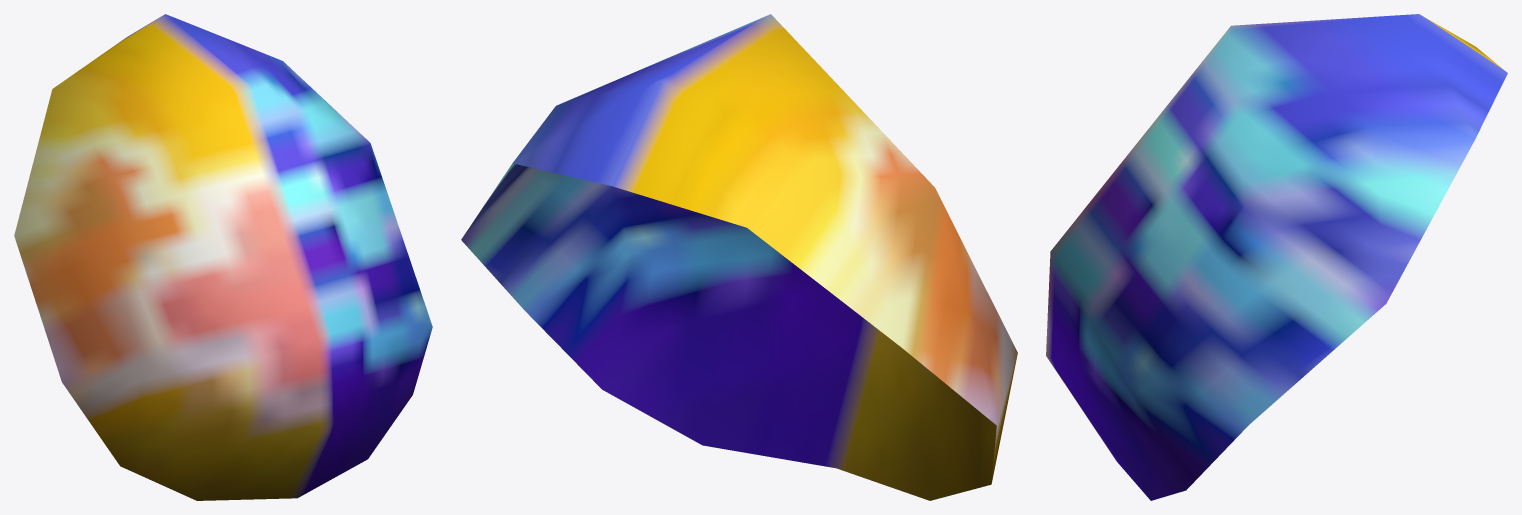
The model's file is fg_egg2_out.dae.
The picture shows the model from 3 angles, left to right: view 1: azimuth 30°, elevation 25°; view 2: azimuth 150°, elevation 25°; view 3: azimuth 270°, elevation 25°; orthographic projection. The views are drawn at different scales.
Visible parts, largest first — view 1: fg_egg2_out; view 2: fg_egg2_out; view 3: fg_egg2_out.
Boxes of the visible parts, left/top/right/bottom form: fg_egg2_out: left=14, top=14, right=432, bottom=500; fg_egg2_out: left=461, top=14, right=1017, bottom=500; fg_egg2_out: left=1046, top=14, right=1507, bottom=500.
Bounding box in the file's own units: 11.35 × 11.86 × 11.11.
1 material, 1 textured.
